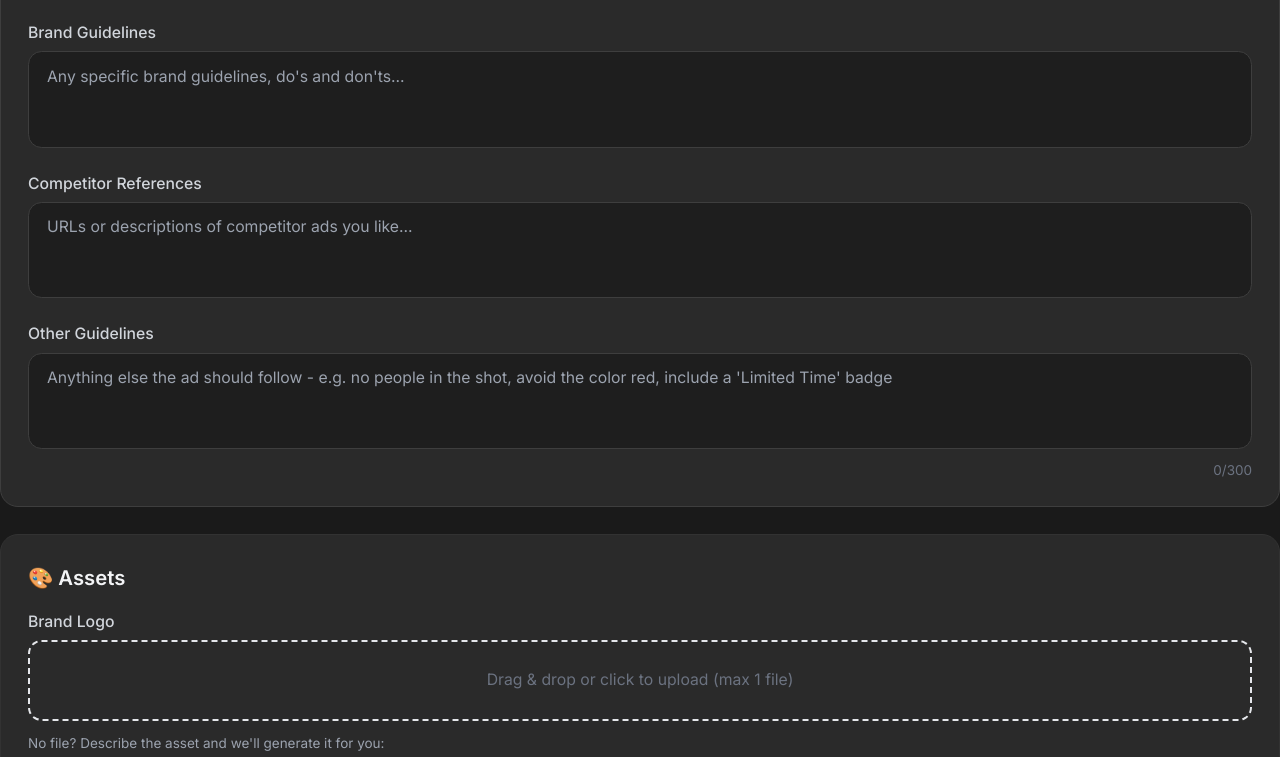
Test: BriefForm › Other Guidelines field › shows a counter that starts at 0/300 and updates as the user types
(page scrolled)
Expected: the text "0/300" is shown, left=1213, top=462, right=1252, bottom=478
Type " No people " into the text box with placeholder "Anything else the ad should follow - e.g. no people in the shot, avoid the color red, include a 'Limited Time' badge" at (640, 401), box left=28, top=352, right=1252, bottom=449
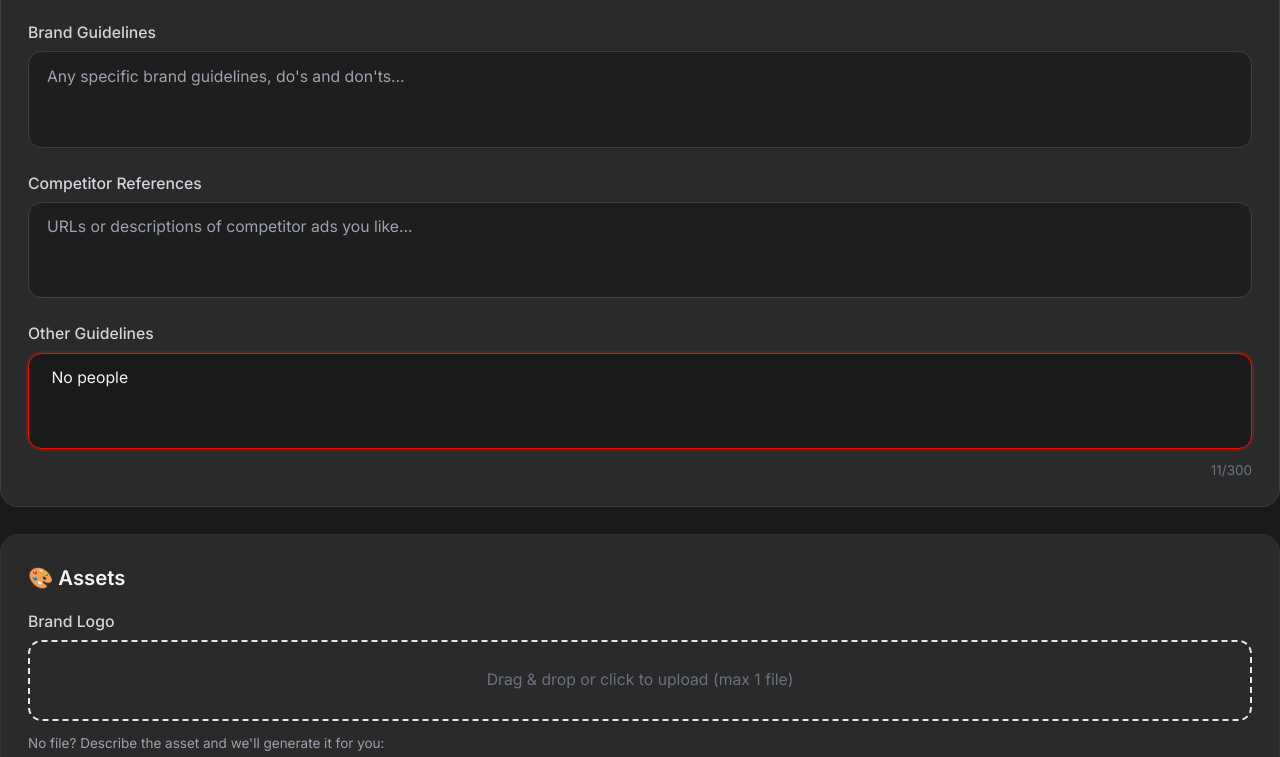
Now the text "11/300" is shown, box left=1211, top=462, right=1252, bottom=478
Now the text "0/300" is gone
